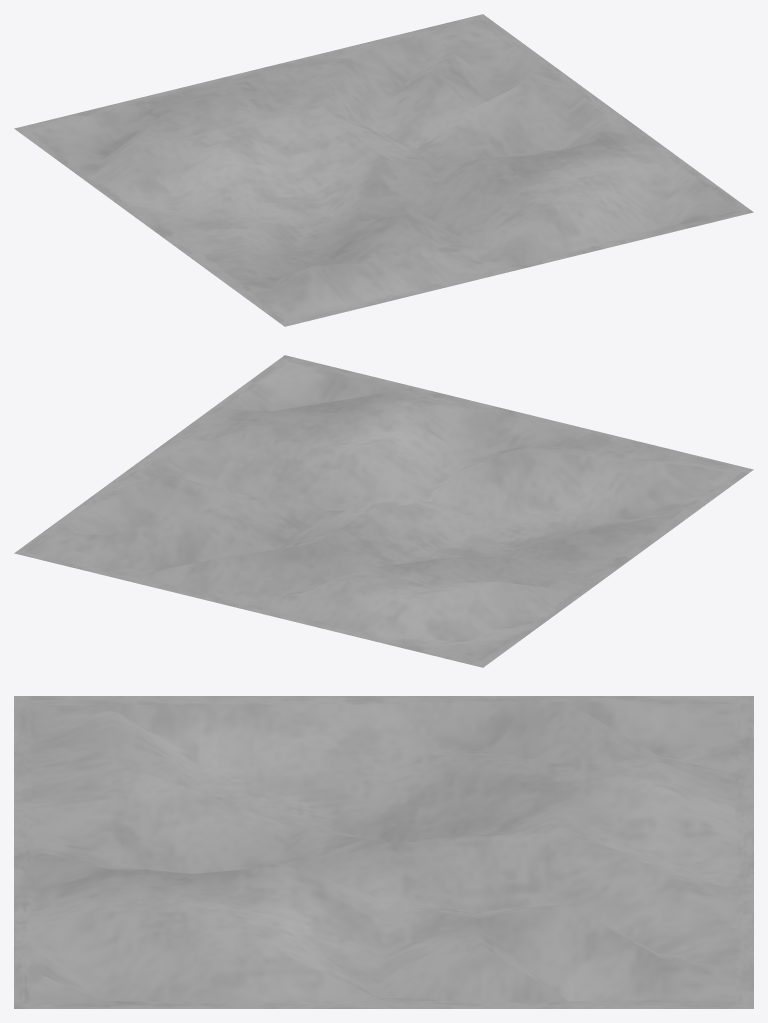
Rendered from m_Tile_Rubble_Low.fbx.
The picture shows the model from 3 angles, top to bottom: view 1: azimuth 30°, elevation 25°; view 2: azimuth 150°, elevation 25°; view 3: azimuth 270°, elevation 25°; orthographic projection. The views are drawn at different scales.
Parts seen in each view (by area): view 1: m_Tile_Rubble_Low; view 2: m_Tile_Rubble_Low; view 3: m_Tile_Rubble_Low.
Boxes of the visible parts, x1,y1,x2,y2 form: m_Tile_Rubble_Low: (14,14,753,326); m_Tile_Rubble_Low: (14,355,753,667); m_Tile_Rubble_Low: (14,696,753,1008).
Size of the model in its own units: 100 by 9.61 by 100.
